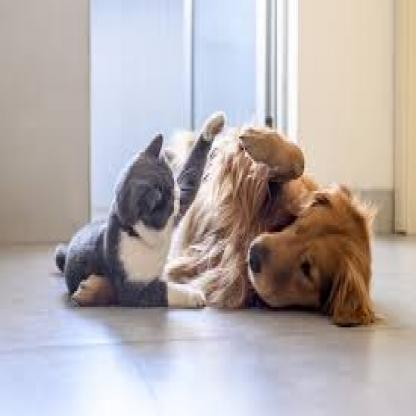cat: (104, 127, 213, 278)
